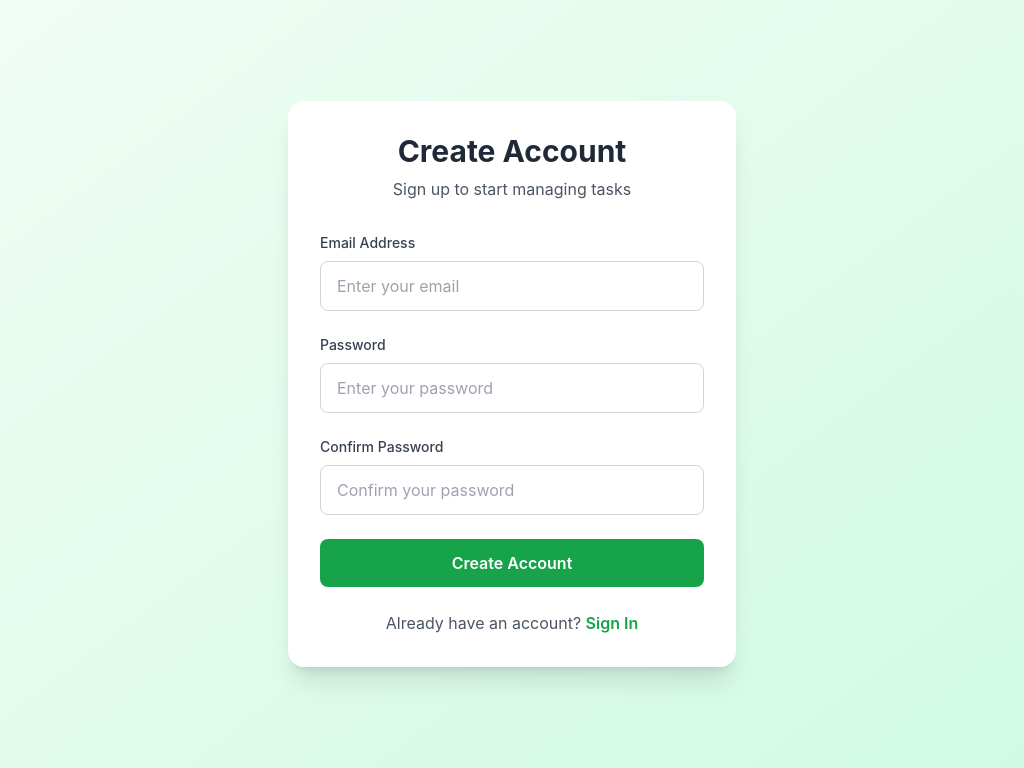
Scenario: Register Component › displays error for short password
This screenshot has width=1024, height=768.
Type "test@example.com" into the field with test id "email-input" at (512, 286), box [320,261,704,311]
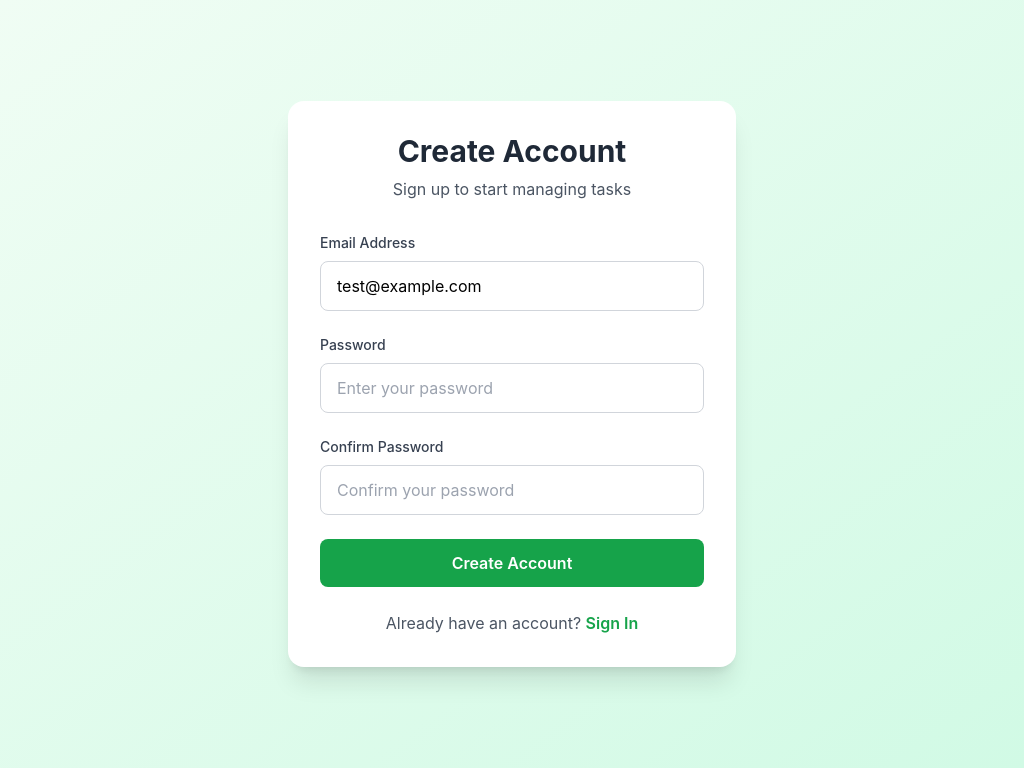
Type "12345" into the password field with test id "password-input" at (512, 388), box [320,363,704,413]
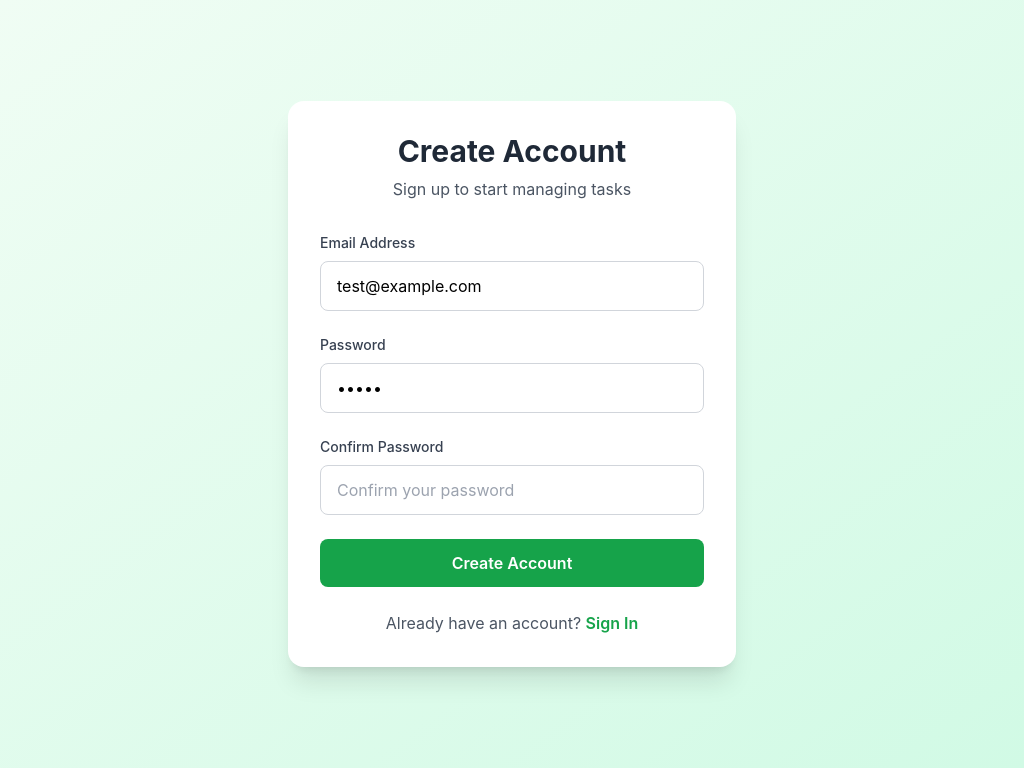
Type "12345" into the password field with test id "confirm-password-input" at (512, 490), box [320,465,704,515]
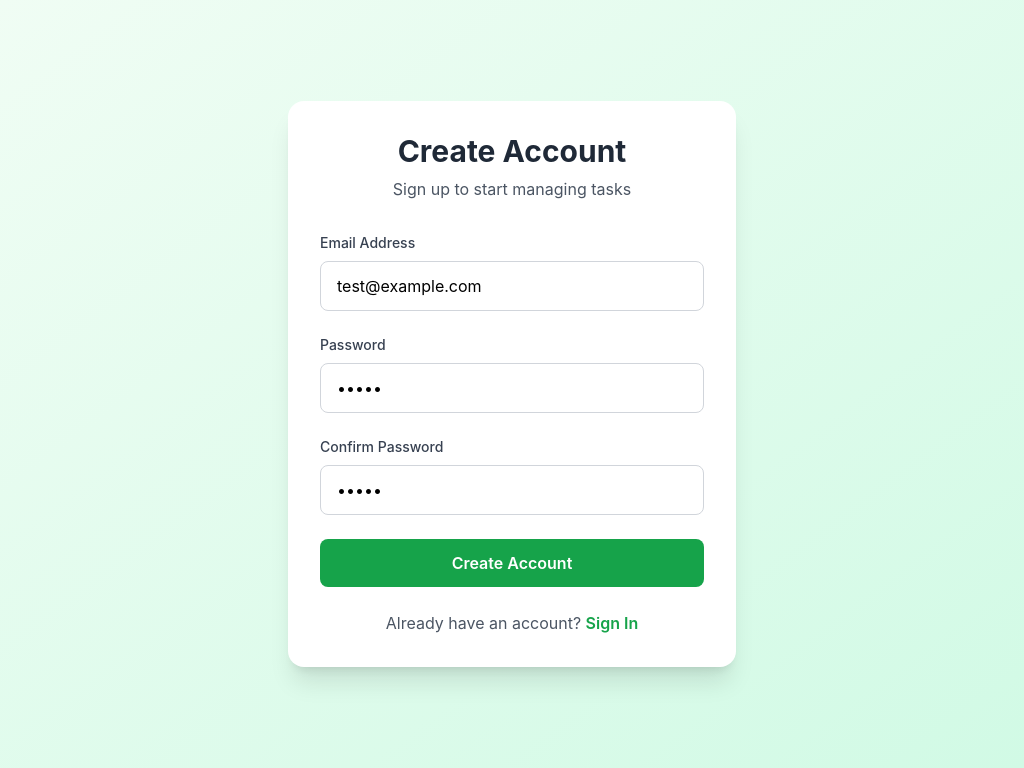
Click the button with test id "register-button" at (512, 563), box [320,539,704,587]
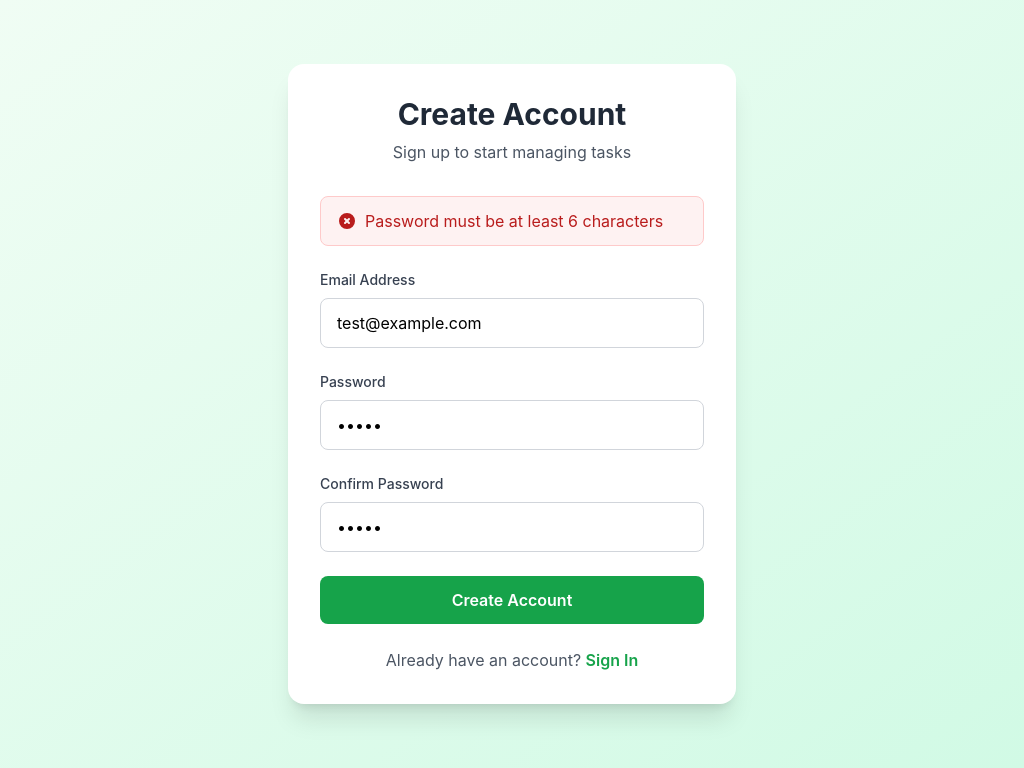
expect the text "Password must be at least 6 characters" is shown: met, box [365,209,663,233]
